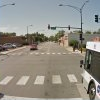crosswalk: (0, 73, 77, 85), (8, 52, 71, 55)
